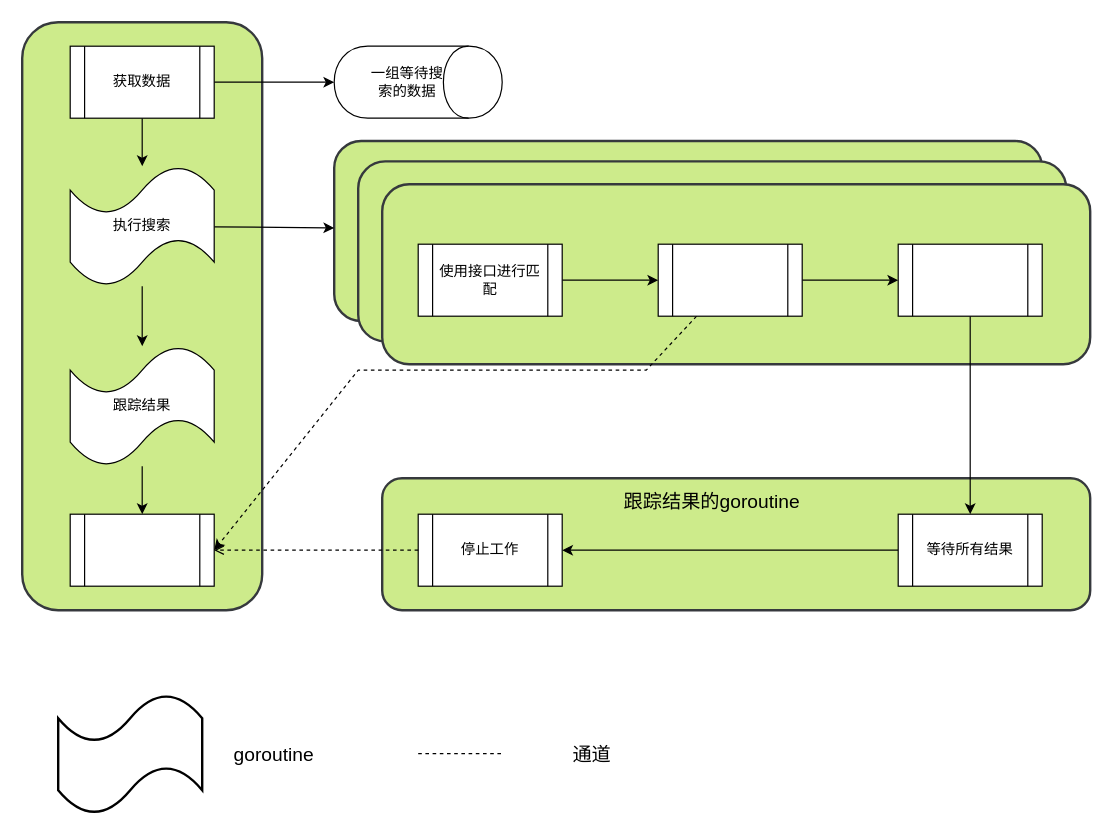
Image size: 1111x835. Some labels were removed from this diagram. The box of each missing label's shape, as (x1, y1, x2, y2) in pixels:
发送结果: (657, 243, 802, 316)
报告任务完成: (897, 243, 1042, 316)
显示结果: (69, 513, 214, 586)
